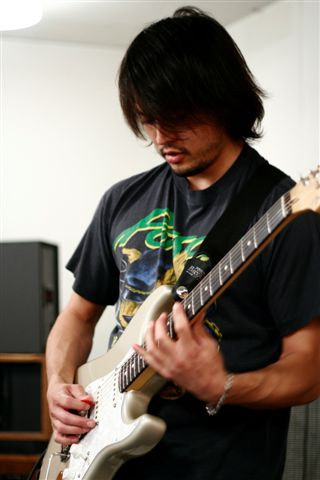person: (46, 7, 320, 480)
